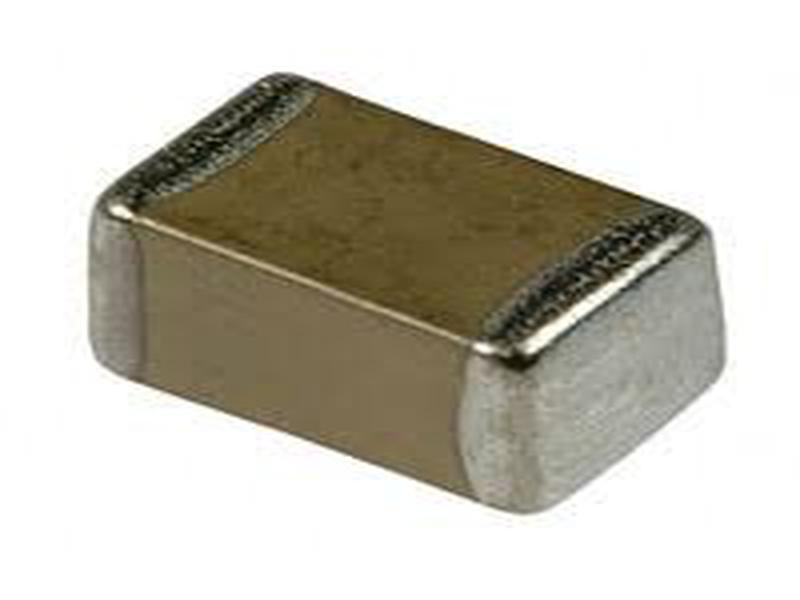SMD capacitor: (68, 68, 765, 526)
